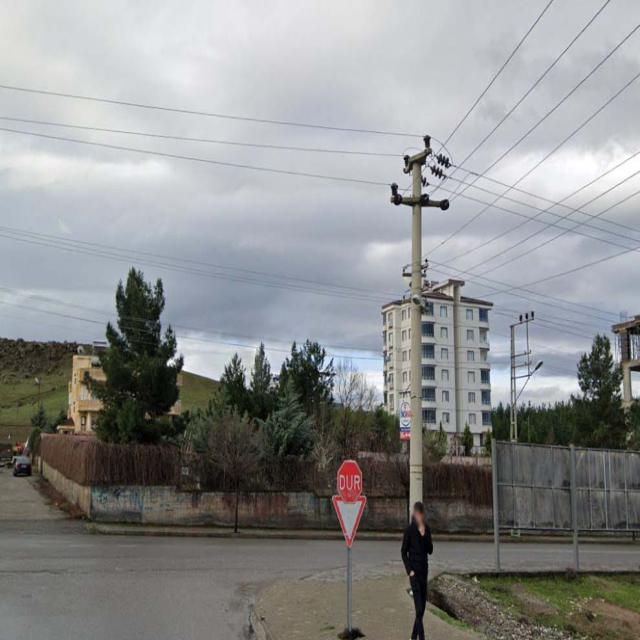dur: (336, 458, 362, 503)
